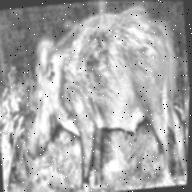boar: (12, 0, 192, 181)
